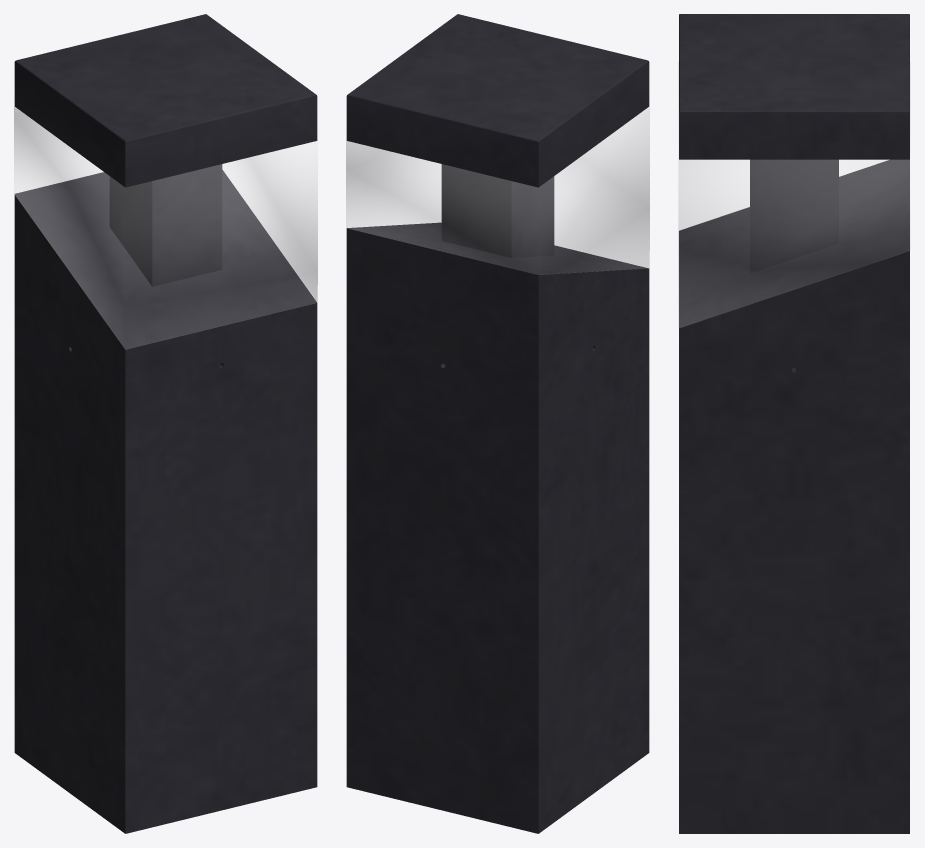
The model's file is bollard.glb.
3 renders of one model, left to right at view 1: azimuth 30°, elevation 25°; view 2: azimuth 150°, elevation 25°; view 3: azimuth 270°, elevation 25°, orthographic. The views are drawn at different scales.
Parts seen in each view (by area): view 1: Box001_2, Object_7; view 2: Box001_2, Object_7; view 3: Box001_2, Object_7.
Part boxes in pixels (box(x1,y1,x2,y2)): Box001_2: box(14, 14, 317, 833); Object_7: box(14, 106, 317, 349); Box001_2: box(346, 14, 649, 833); Object_7: box(346, 106, 649, 274); Box001_2: box(679, 14, 909, 833); Object_7: box(678, 62, 910, 328).
Bounding box in the file's own units: 0.1307 × 0.4493 × 0.1307.
3 materials, 1 textured.
